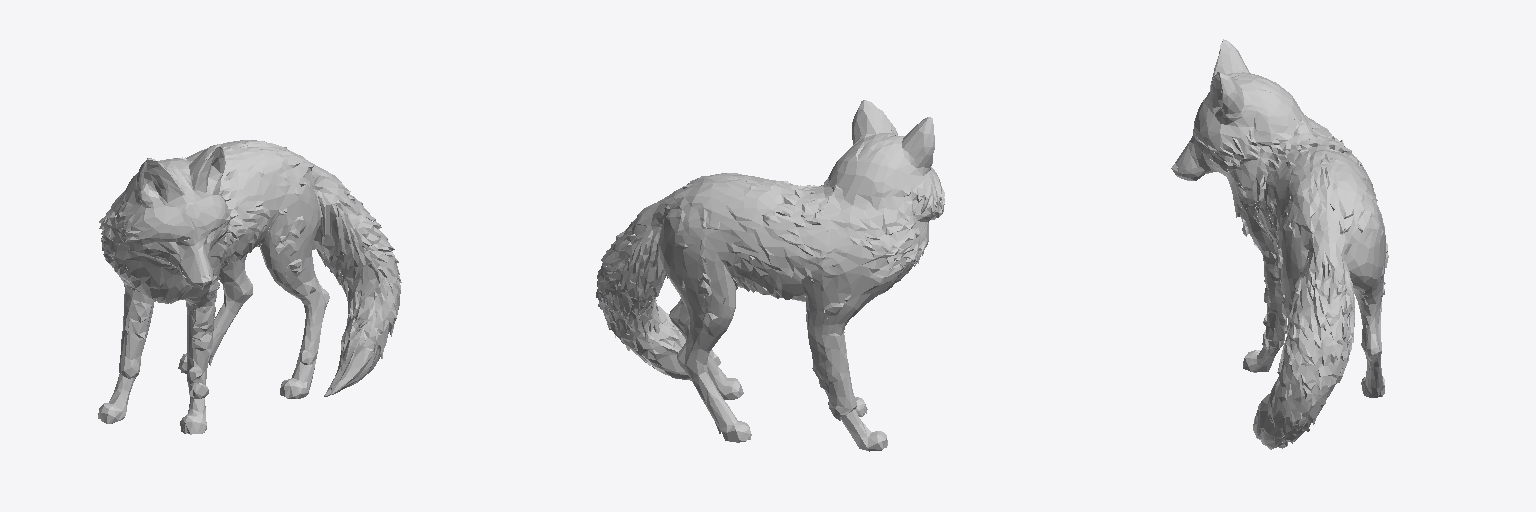
File: test_simplified.obj
3 views of the same model, side by side, from view 1: azimuth 30°, elevation 25°; view 2: azimuth 150°, elevation 25°; view 3: azimuth 270°, elevation 25° (orthographic).
Bounding box in the file's own units: 1.99 × 1.85 × 1.21.